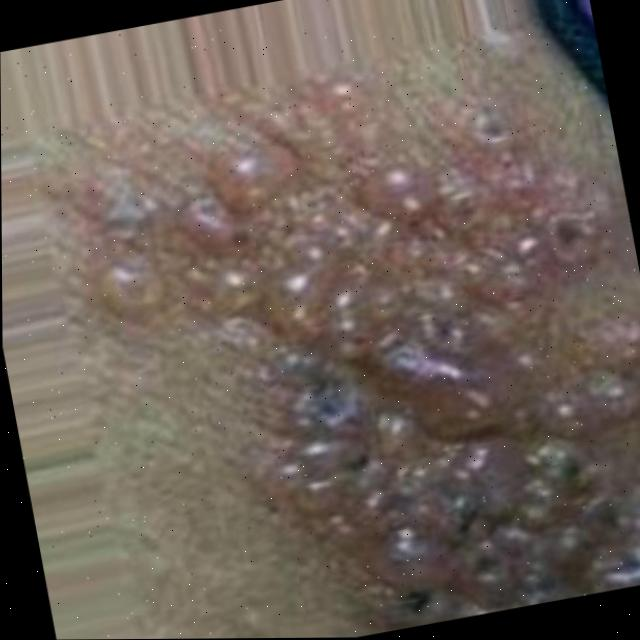Shingles: (66, 65, 640, 640)
